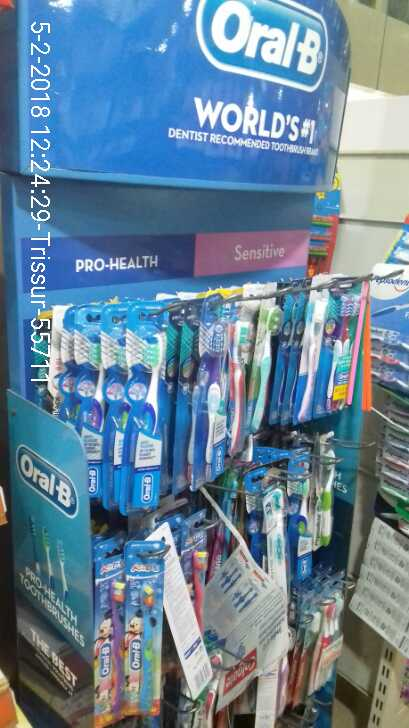oralb: (125, 301, 165, 507), (198, 293, 226, 479)
